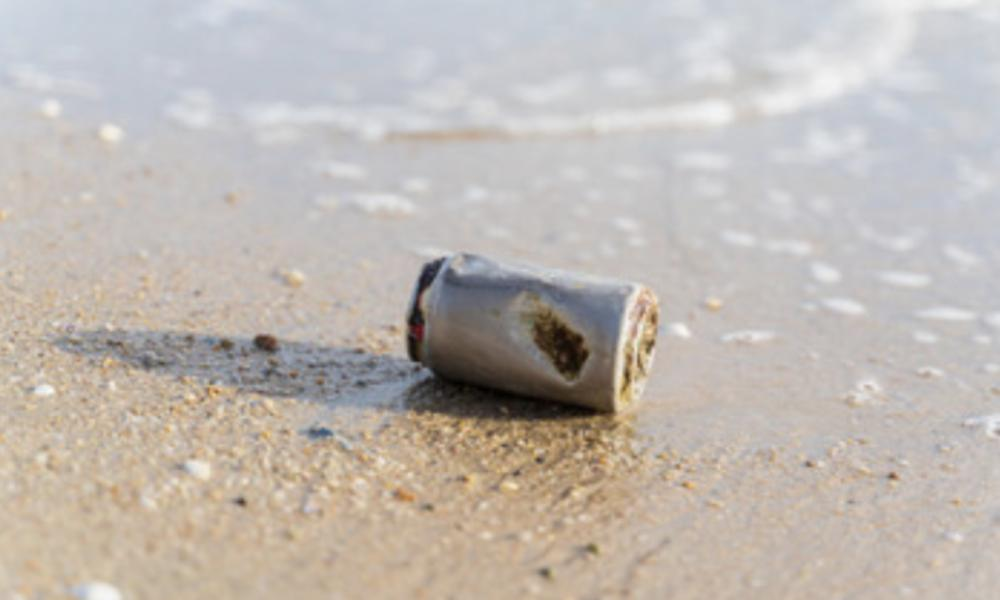can: (402, 226, 670, 420)
